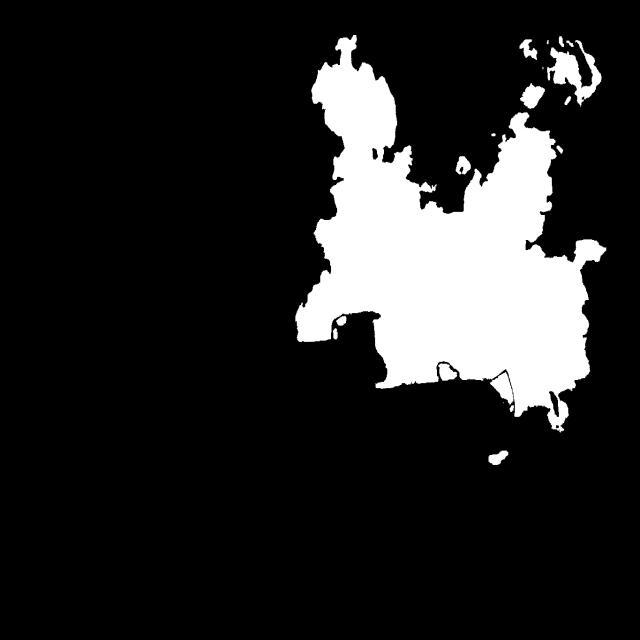fire: (264, 34, 626, 455)
